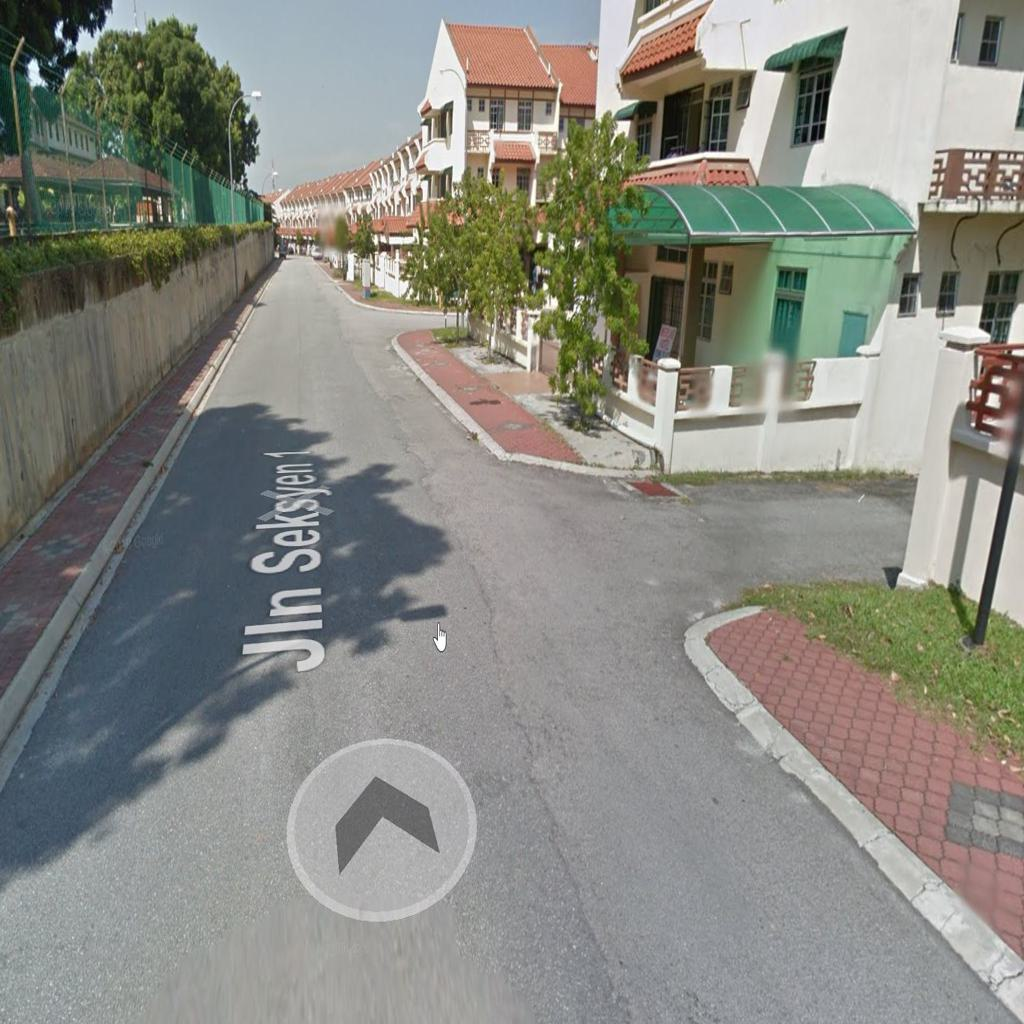Junction: (529, 435, 895, 633), (367, 295, 470, 362)
